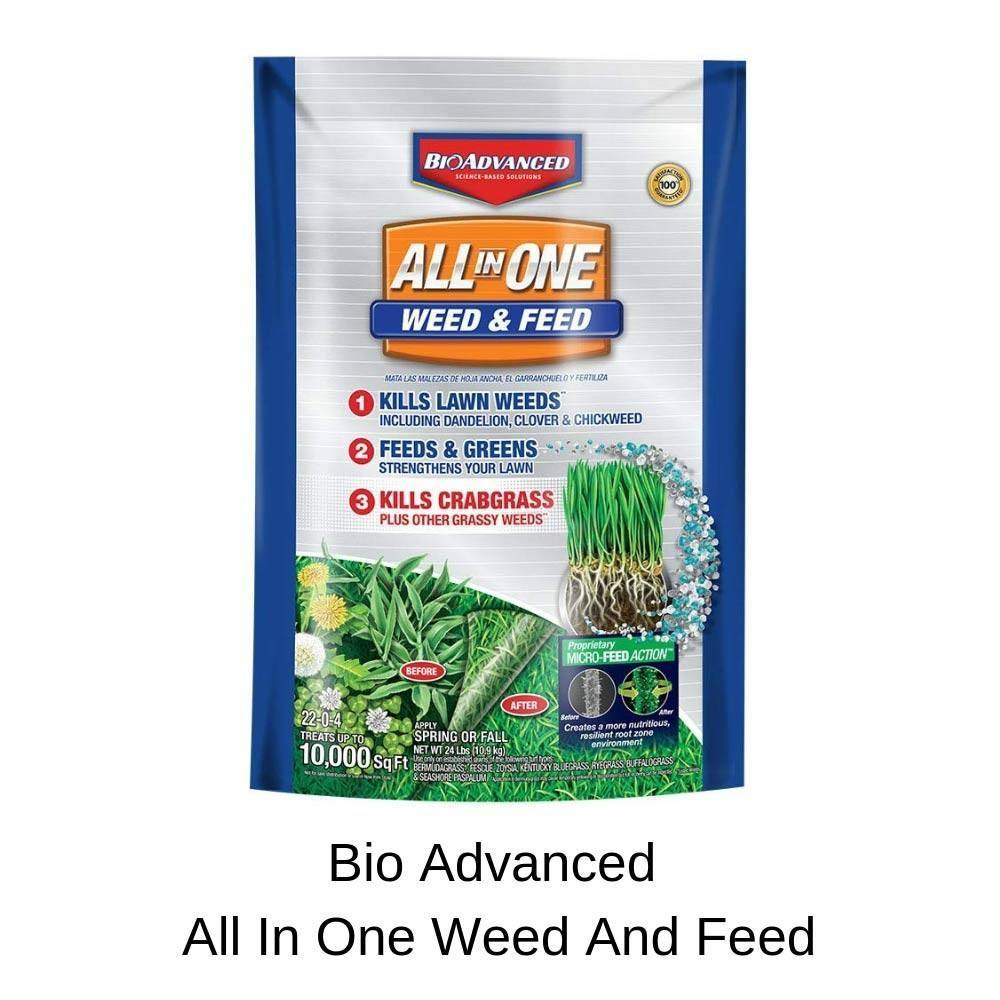crabgrass: (334, 565, 488, 715)
